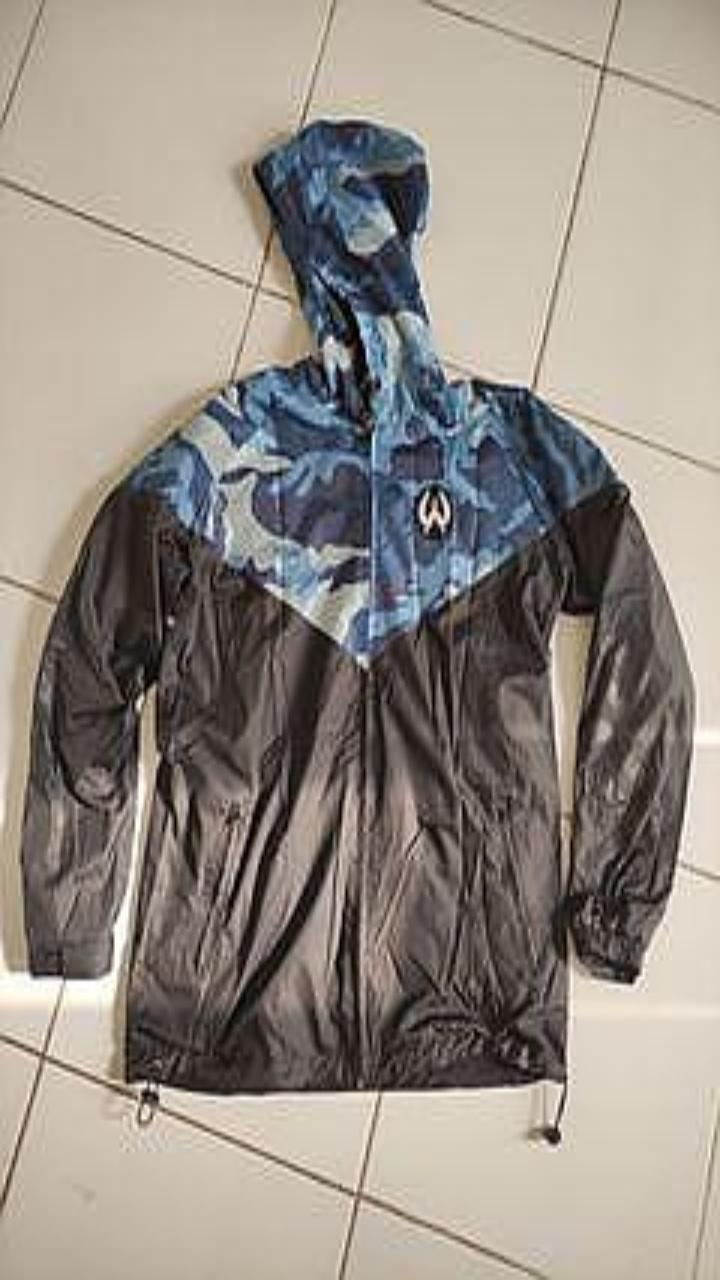Sports_Jacket: (21, 118, 694, 1103)
